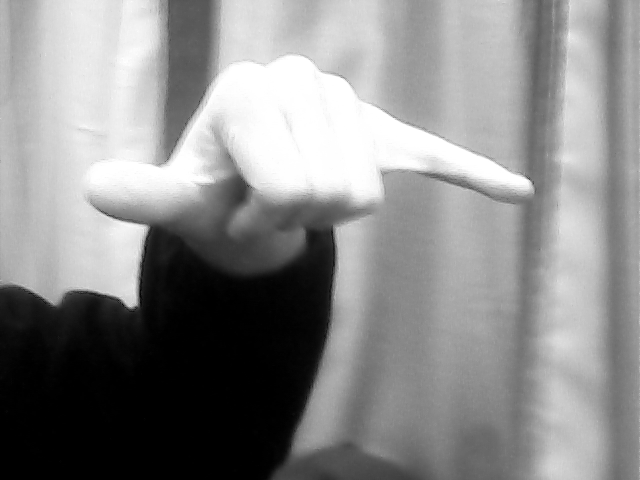aloha: (78, 53, 543, 266)
